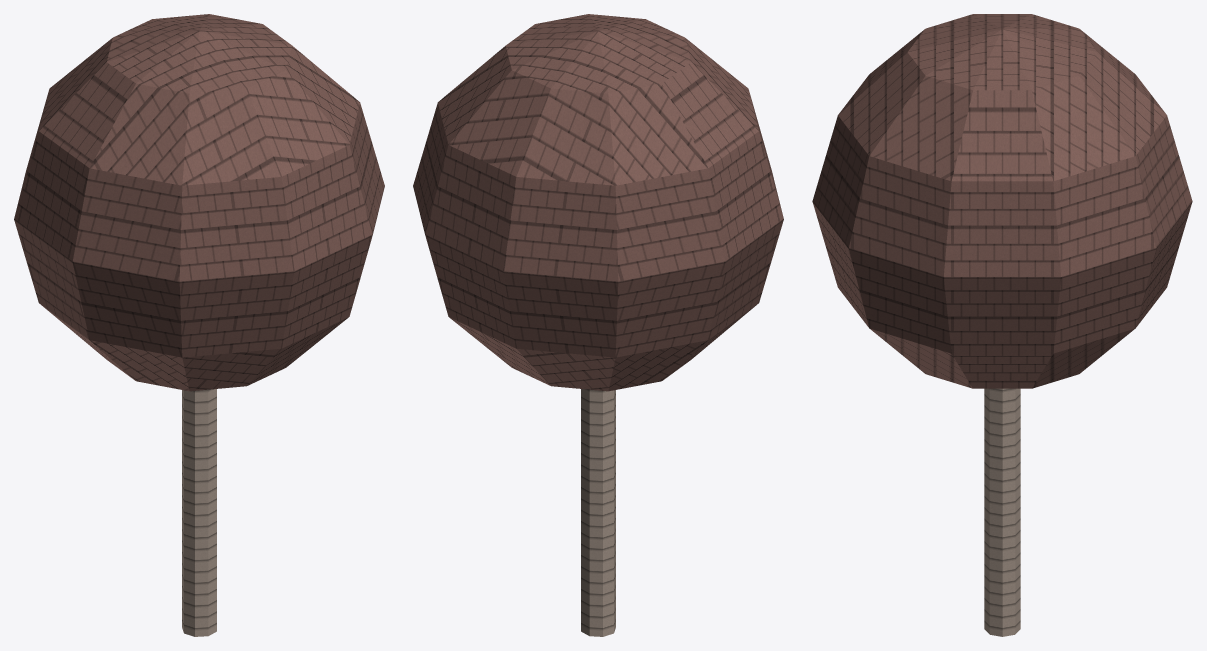
The model's file is tree_red_maple.glb.
The picture shows the model from 3 angles, left to right: view 1: azimuth 30°, elevation 25°; view 2: azimuth 150°, elevation 25°; view 3: azimuth 270°, elevation 25°; orthographic projection.
Parts seen in each view (by area): view 1: tree_red_maple-col; view 2: tree_red_maple-col; view 3: tree_red_maple-col.
Boxes of the visible parts, x1,y1,x2,y2 form: tree_red_maple-col: [14, 14, 384, 636]; tree_red_maple-col: [413, 14, 783, 636]; tree_red_maple-col: [812, 14, 1192, 636].
Size of the model in its own units: 3.61 by 6.62 by 3.8.
Materials: 2 (2 with a texture image).
